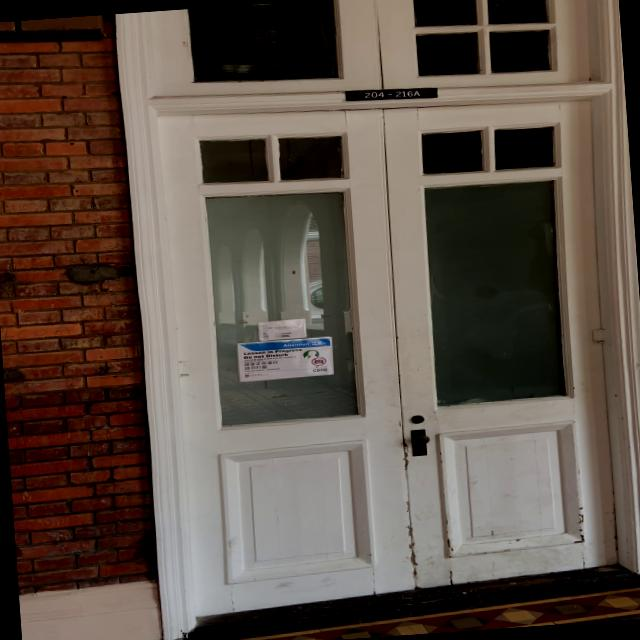room204: (341, 81, 438, 105)
